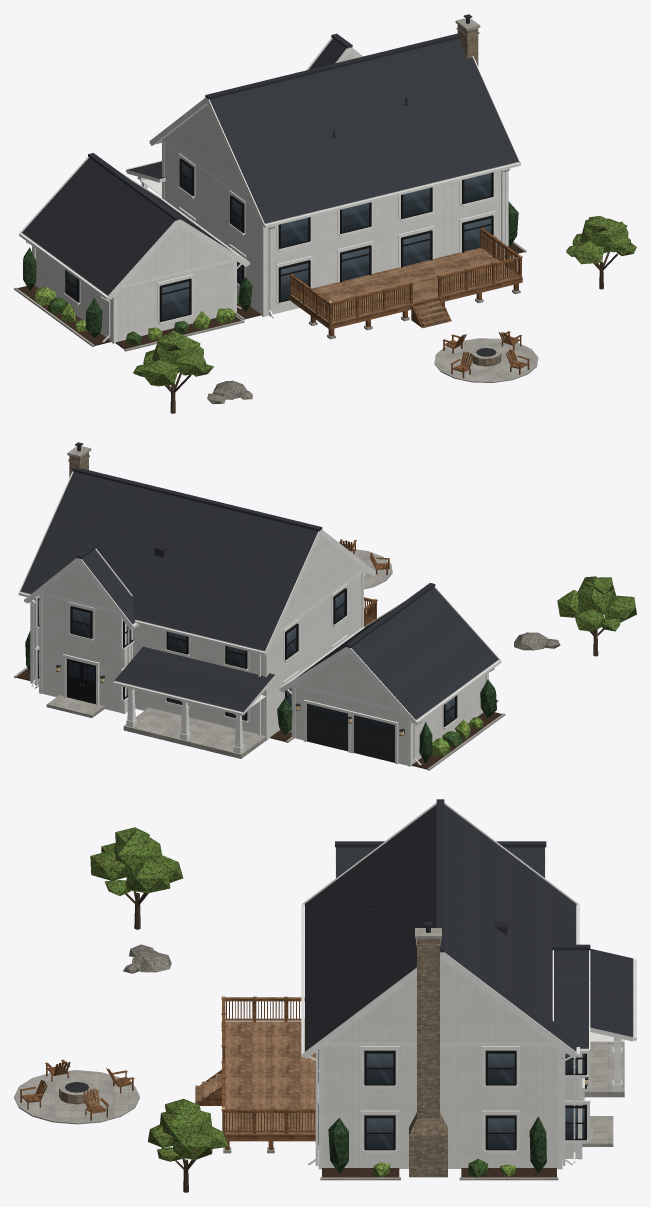
The model's file is se_farmhouse_bnb.fbx.
3 views of the same model, one above another, from view 1: azimuth 30°, elevation 25°; view 2: azimuth 150°, elevation 25°; view 3: azimuth 270°, elevation 25° (orthographic). The views are drawn at different scales.
Visible parts, largest first — view 1: se_farmhouse_bnb_LOD0; view 2: se_farmhouse_bnb_LOD0; view 3: se_farmhouse_bnb_LOD0.
Boxes of the visible parts, x1=… form: se_farmhouse_bnb_LOD0: x1=14, y1=14, x2=636, y2=413; se_farmhouse_bnb_LOD0: x1=14, y1=442, x2=636, y2=770; se_farmhouse_bnb_LOD0: x1=14, y1=799, x2=636, y2=1192.
Size of what is drawn, in the model's own units: 29.58 by 11.34 by 25.7.
2 materials, 2 textured.
